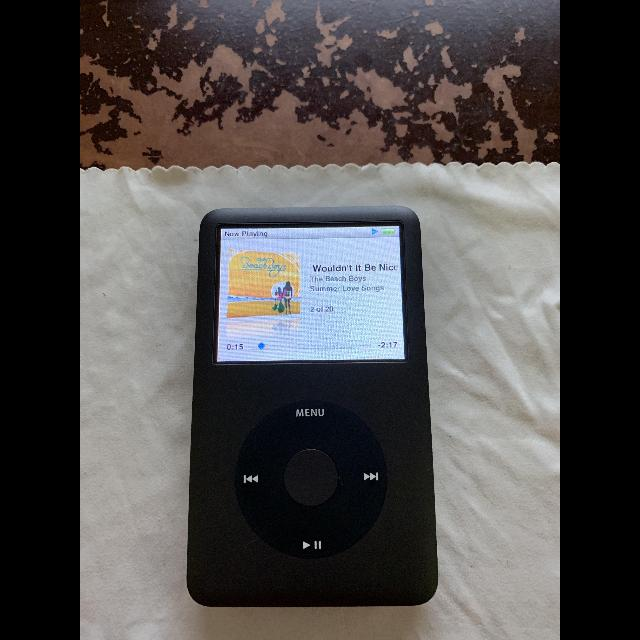Music-Player: (174, 194, 448, 620)
